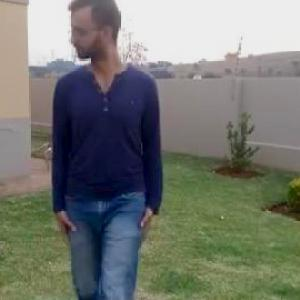follow: (46, 0, 161, 294)
